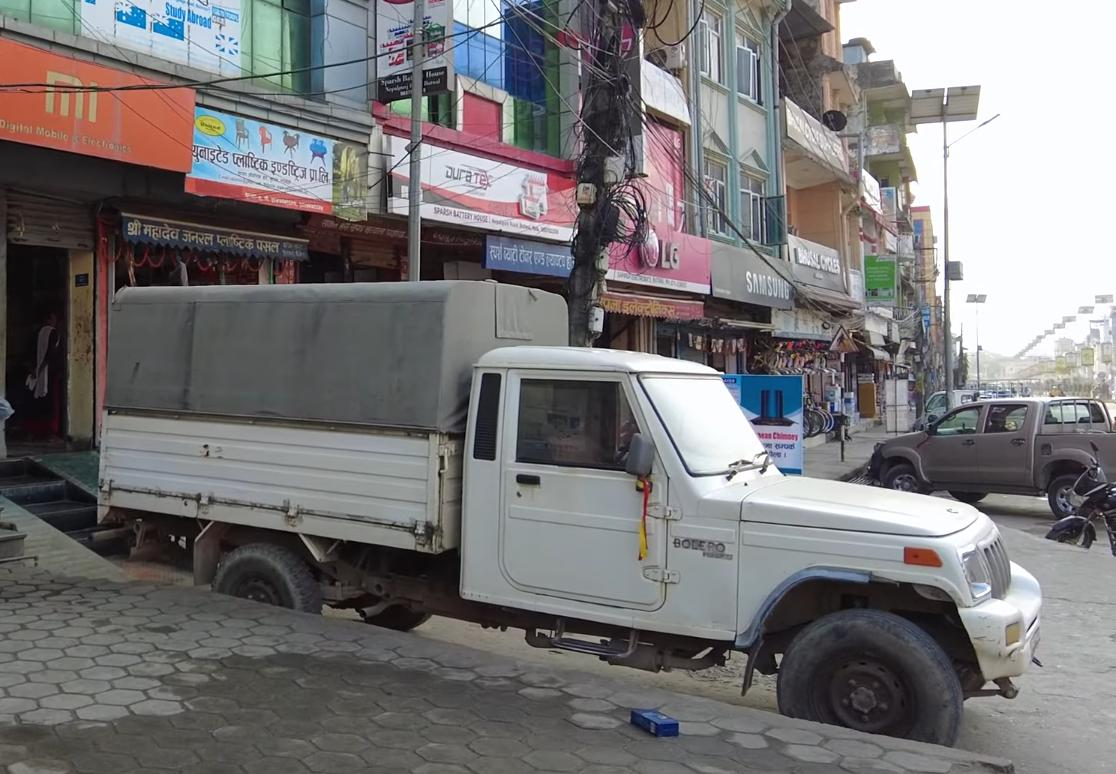SUV: (872, 384, 1116, 510)
transport_vehicle: (86, 272, 1042, 758)
